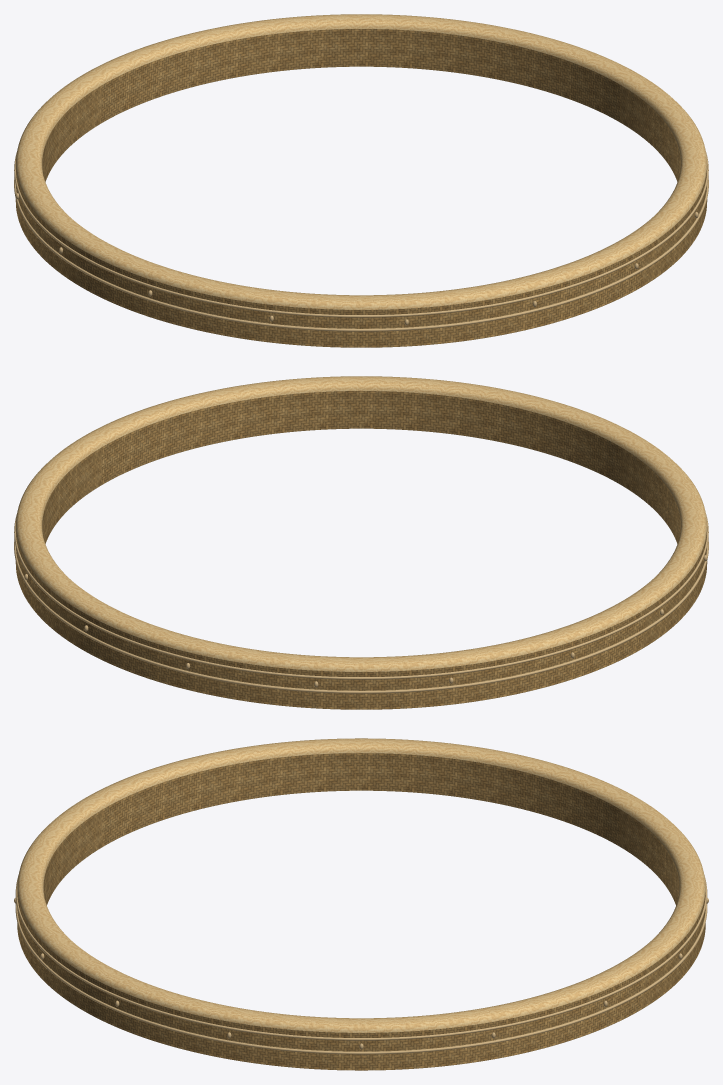
Rendered from ENV_Dimsum_Wall.fbx.
3 renders of one model, top to bottom at view 1: azimuth 30°, elevation 25°; view 2: azimuth 150°, elevation 25°; view 3: azimuth 270°, elevation 25°, orthographic.
Visible parts, largest first — view 1: ENV_Dimsum_Wall; view 2: ENV_Dimsum_Wall; view 3: ENV_Dimsum_Wall.
Part boxes in pixels (left/top/right/bottom): ENV_Dimsum_Wall: left=14, top=14, right=708, bottom=347; ENV_Dimsum_Wall: left=14, top=376, right=708, bottom=709; ENV_Dimsum_Wall: left=14, top=738, right=708, bottom=1070.
Bounding box in the file's own units: 50.26 × 3.5 × 50.28.
